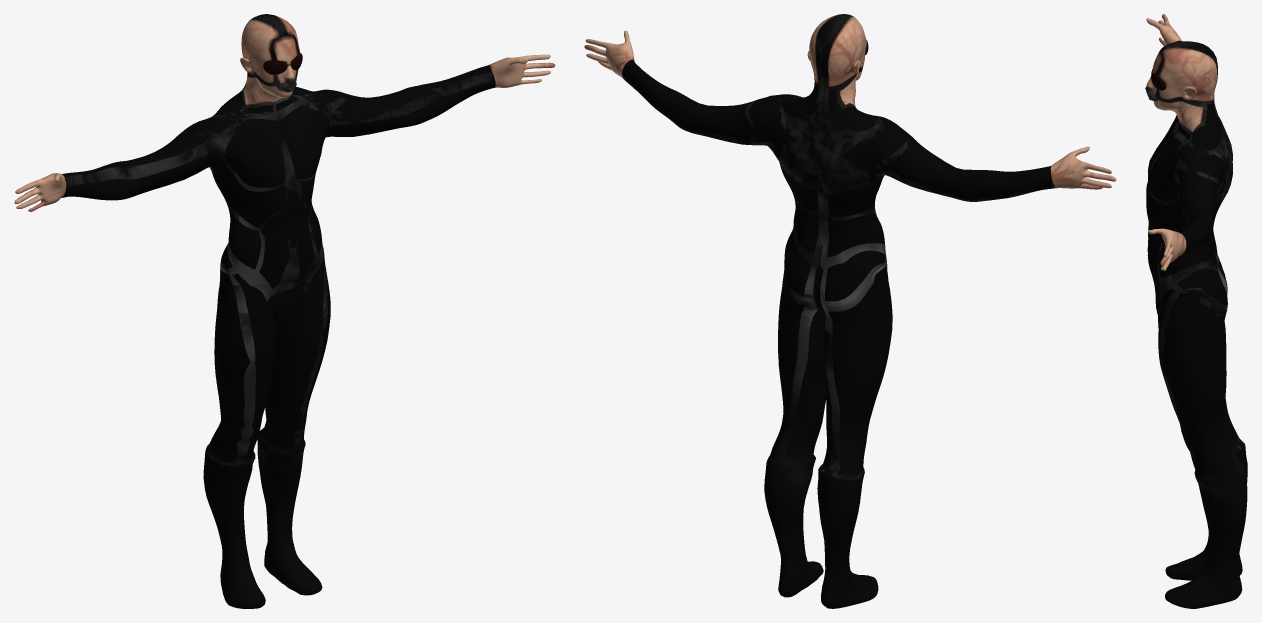
File: ziomeczek T-Pose low.FBX
The picture shows the model from 3 angles, left to right: view 1: azimuth 30°, elevation 25°; view 2: azimuth 150°, elevation 25°; view 3: azimuth 270°, elevation 25°; orthographic projection. The views are drawn at different scales.
Visible parts, largest first — view 1: ziomeczek001; view 2: ziomeczek001; view 3: ziomeczek001.
Part boxes in pixels (x1,y1,x2,y2): ziomeczek001: (14,14,555,608); ziomeczek001: (584,14,1116,608); ziomeczek001: (1145,14,1247,608).
Size of the model in its own units: 131 by 134 by 22.93.
1 material, 1 textured.
